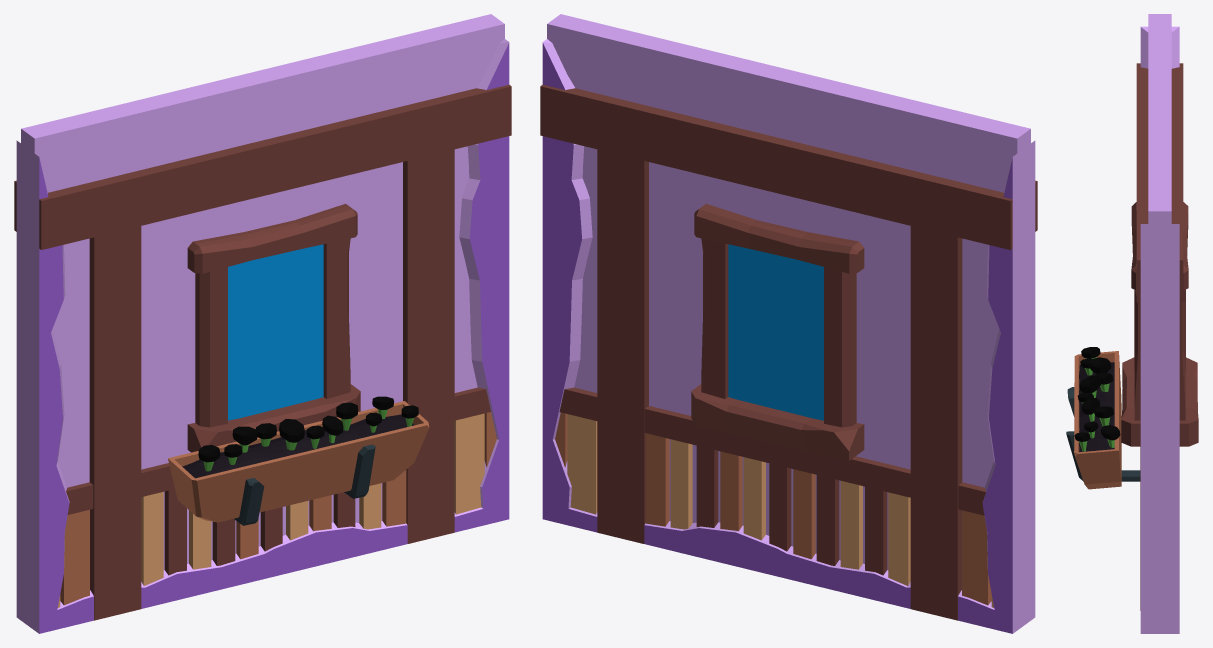
File: Modular Wall 04 MK2 W3.fbx
The picture shows the model from 3 angles, left to right: view 1: azimuth 30°, elevation 25°; view 2: azimuth 150°, elevation 25°; view 3: azimuth 270°, elevation 25°; orthographic projection. The views are drawn at different scales.
Visible parts, largest first — view 1: Modular Wall 04 MK2 W3; view 2: Modular Wall 04 MK2 W3; view 3: Modular Wall 04 MK2 W3.
Part boxes in pixels (x1,y1,x2,y2): Modular Wall 04 MK2 W3: (14, 14, 511, 633); Modular Wall 04 MK2 W3: (540, 14, 1037, 633); Modular Wall 04 MK2 W3: (1066, 14, 1198, 633).
Bounding box in the file's own units: 400 × 400 × 113.
